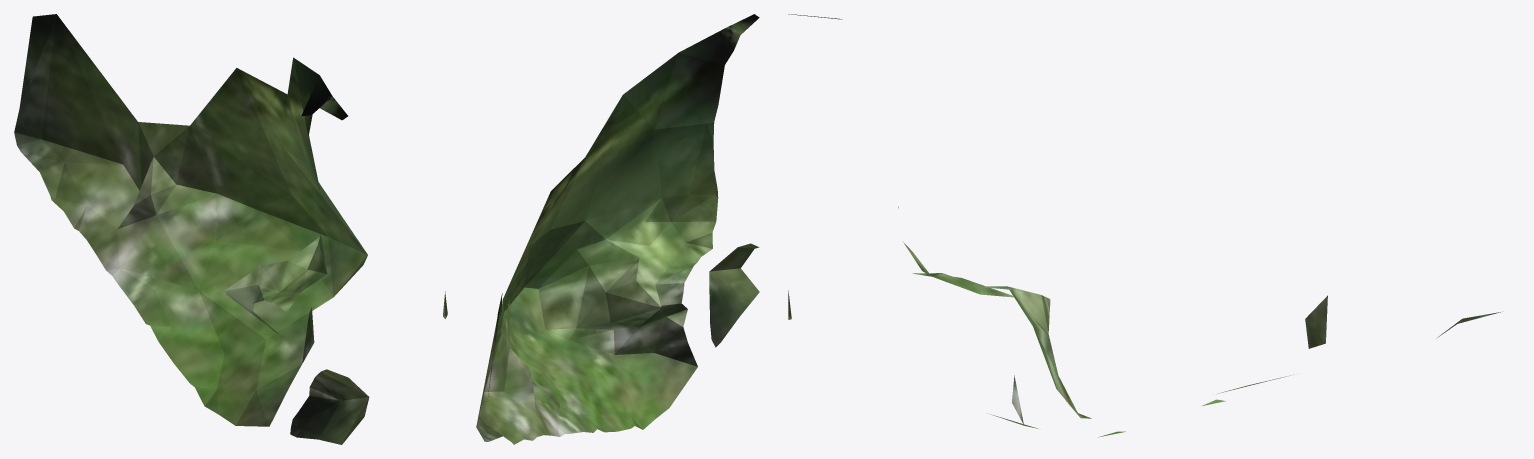
3 views of the same model, side by side, from view 1: azimuth 30°, elevation 25°; view 2: azimuth 150°, elevation 25°; view 3: azimuth 270°, elevation 25° (orthographic). The views are drawn at different scales.
Size of the model in its own units: 7.98 by 19.53 by 29.82.
Materials: 1 (1 with a texture image).
